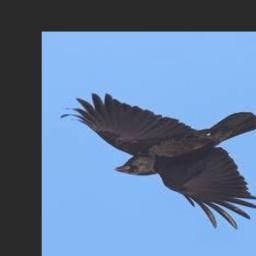Crow: (60, 94, 256, 230)
